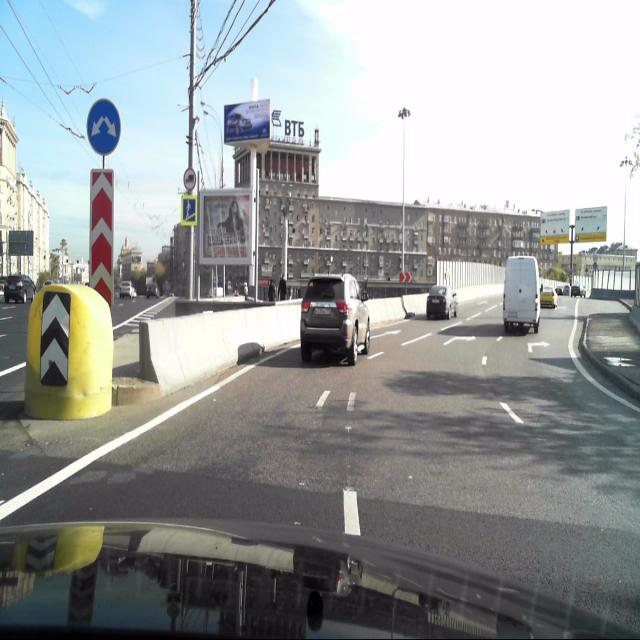object: (88, 169, 114, 307)
road sign: (181, 193, 196, 225)
